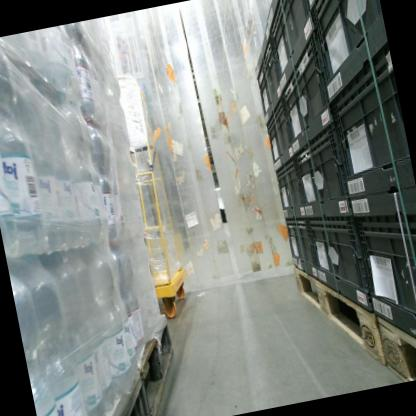pallet: (290, 252, 389, 389), (373, 305, 416, 384)
